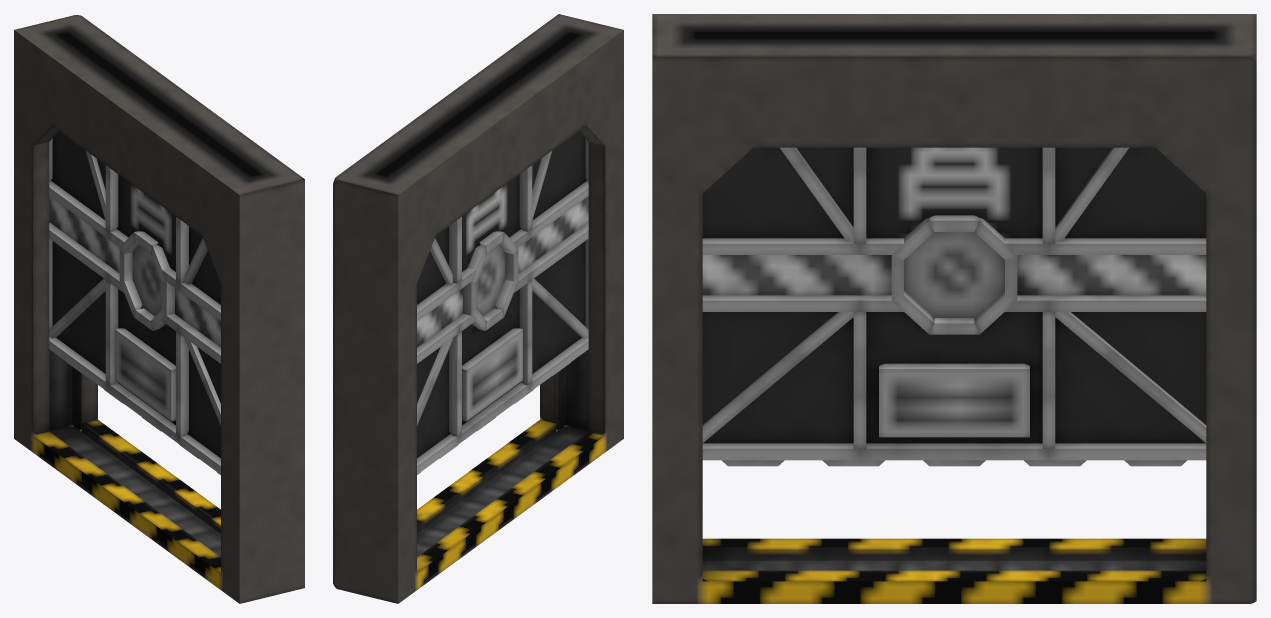
Rendered from qe_containment_43.obj.
3 renders of one model, left to right at view 1: azimuth 30°, elevation 25°; view 2: azimuth 150°, elevation 25°; view 3: azimuth 270°, elevation 25°, orthographic. The views are drawn at different scales.
Visible parts, largest first — view 1: Frame, Door; view 2: Frame, Door; view 3: Frame, Door.
Boxes of the visible parts, x1=… form: Frame: x1=14, y1=15, x2=304, y2=603; Door: x1=49, y1=131, x2=220, y2=474; Frame: x1=333, y1=14, x2=623, y2=603; Door: x1=417, y1=131, x2=588, y2=474; Frame: x1=652, y1=14, x2=1256, y2=603; Door: x1=702, y1=147, x2=1206, y2=466.
Bounding box in the file's own units: 0.5 × 3 × 3.
